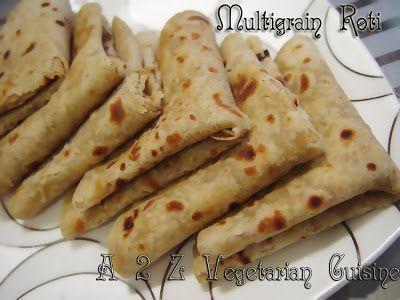chapati: (197, 35, 400, 257), (98, 0, 400, 149), (0, 208, 53, 246)
